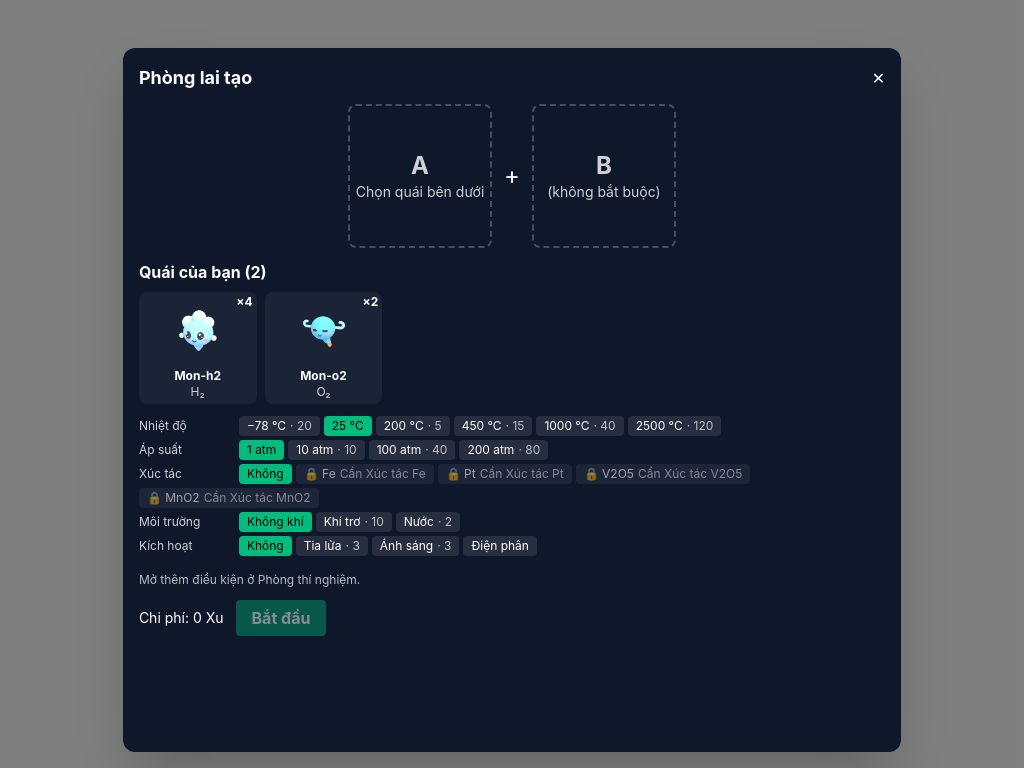
Test case: shows SLOTS_FULL message
The width and height of the screenshot is (1024, 768).
Step 1. Click the button "×4 Mon-h2 H₂" → (198, 348), box [139,292,257,404]
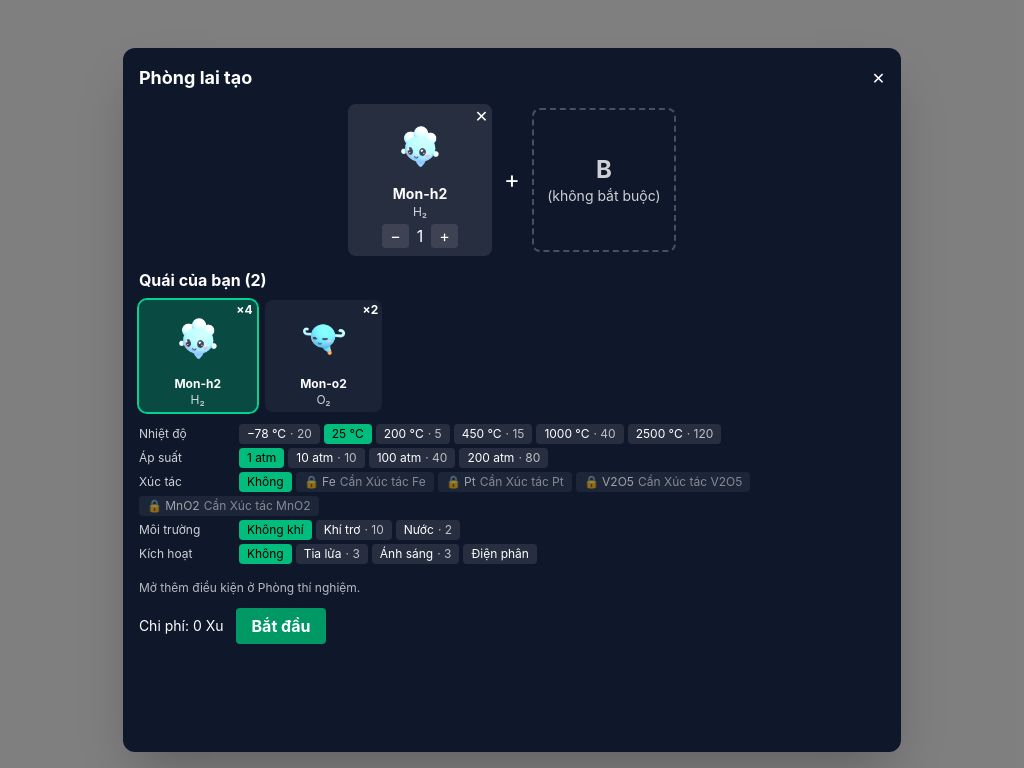
Step 2. Click the button "Bắt đầu" → (281, 626), box [236,608,326,644]
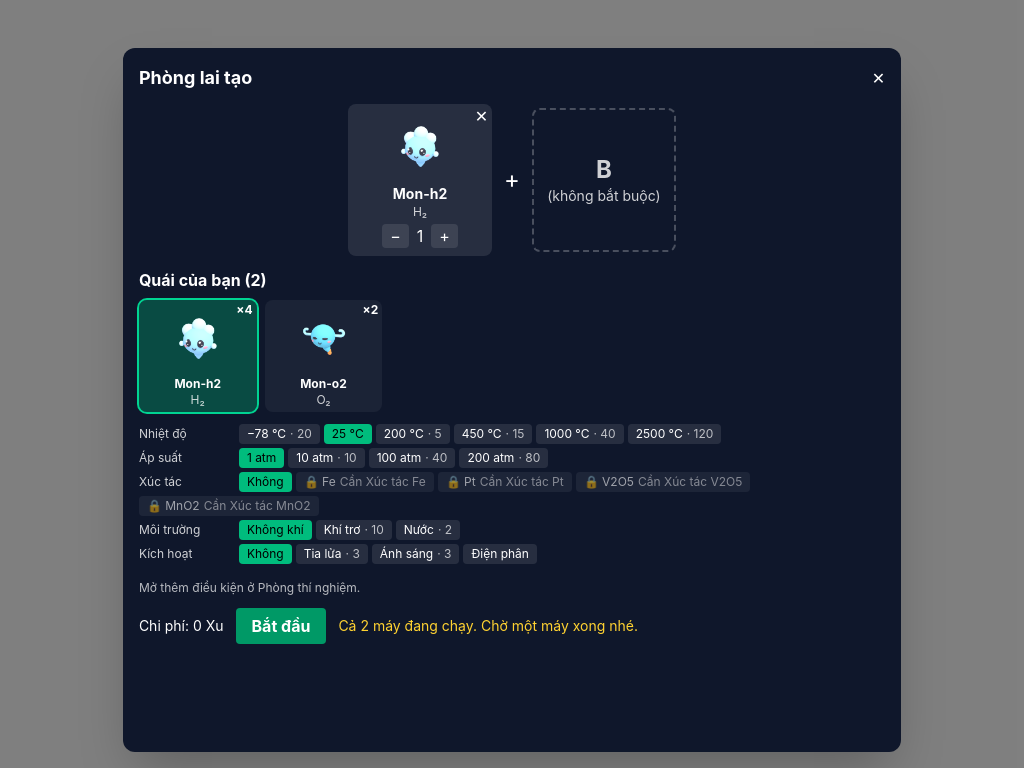
Now the message reads "Cả 2 máy đang chạy. Chờ một máy xong nhé.", box [338,617,638,634]
